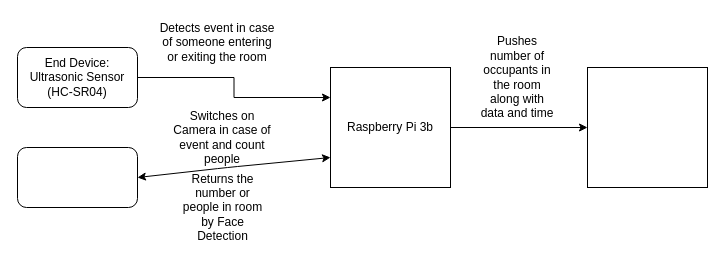
The diagram is 725 pixels wide and 260 high, and some of its shapes have lost their labels. Each missing label, with the box of its shape:
End Device: CSI Camera Module: (16, 146, 138, 208)
Google Firebase: (586, 66, 708, 188)
